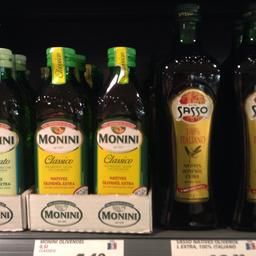oil: (158, 4, 222, 228), (88, 42, 149, 192), (28, 46, 90, 192)
